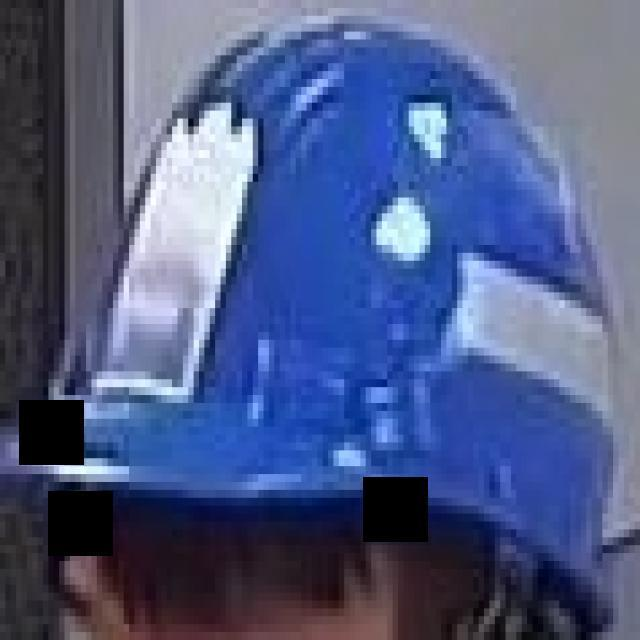blue helmet: (1, 1, 623, 629)
